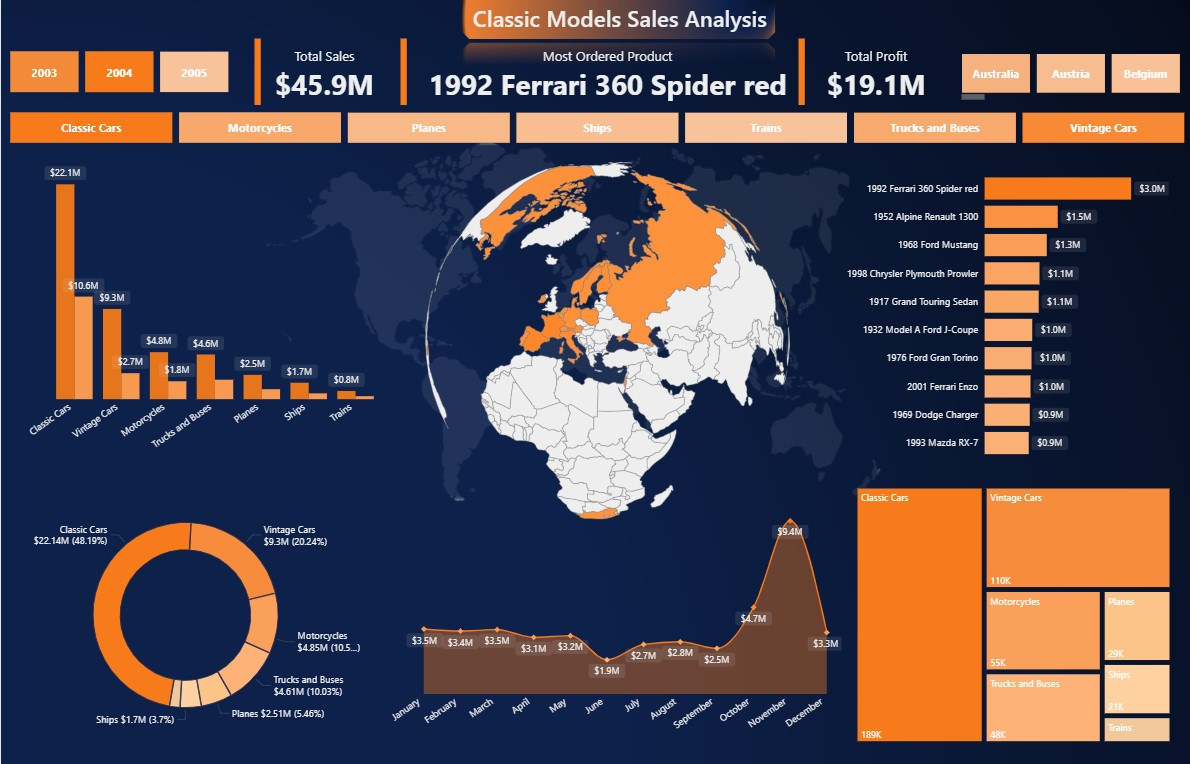

The page's visual inventory and layout, read from the dashboard file:
{"tool":"powerbi","page":{"name":"Page 1","canvas":[1700,1100],"ordinal":0},"visuals":[{"type":"cardVisual","fields":{"Data":["Order details.total_sales"]},"box":[337.1,51.4,210,105.7],"z":0},{"type":"cardVisual","fields":{"Data":["Order details.total_profit"]},"box":[1157.5,51.2,232.5,106.2],"z":1000},{"type":"cardVisual","fields":{"Data":["Order details.Most Ordered Product"]},"box":[577.1,51.4,602.9,105.7],"z":2000},{"type":"donutChart","fields":{"Category":["Productlines.productLine"],"Y":["Sum(Order details.Sales)"]},"box":[0,694.3,527.1,371.4],"z":3000},{"type":"barChart","fields":{"Y":["Sum(Order details.Sales)"],"Category":["Products.productName"]},"box":[1187.5,226.2,486.2,446.2],"z":4000},{"type":"treemap","fields":{"Group":["Productlines.productLine"],"Values":["Sum(Order details.quantityOrdered)"]},"box":[1218.6,694.3,455.7,371.4],"z":5000},{"type":"advancedSlicerVisual","title":"Product lines","fields":{"Values":["Productlines.productLine"]},"box":[8.8,157.5,1690,53.8],"z":6000},{"type":"stackedAreaChart","fields":{"Category":["Orders.Month Name"],"Y":["Sum(Order details.Sales)"]},"box":[547.1,727.1,658.6,338.6],"z":7000},{"type":"shapeMap","fields":{"Category":["Customers.country"]},"box":[376.2,200,981.2,576.2],"z":8000},{"type":"textbox","box":[658.8,0,451.2,60],"z":9000},{"type":"advancedSlicerVisual","fields":{"Values":["Orders.order_year"]},"box":[1367.1,104.3,322.9,44.3],"z":10000},{"type":"slicer","title":"Countries","fields":{"Values":["Customers.country"]},"box":[8.6,87.1,328.6,61.4],"z":11000},{"type":"clusteredColumnChart","fields":{"Y":["Order details.Total Sales","Order details.Total Profit"],"Category":["Productlines.productLine"]},"box":[31.4,225.7,535.7,440],"z":12000}]}

Visuals, with their boxes in screenshot pixels (x1, y1, x2, y2), scaled from the page's 1700x1100 canvas onto the 1190x764 screenshot:
cardVisual - Order details.total_sales: box(236, 36, 383, 109)
cardVisual - Order details.total_profit: box(810, 36, 973, 109)
cardVisual - Order details.Most Ordered Product: box(404, 36, 826, 109)
donutChart - Productlines.productLine x Sum(Order details.Sales): box(0, 482, 369, 740)
barChart - Sum(Order details.Sales) x Products.productName: box(831, 157, 1172, 467)
treemap - Productlines.productLine x Sum(Order details.quantityOrdered): box(853, 482, 1172, 740)
"Product lines" advancedSlicerVisual: box(6, 109, 1189, 147)
stackedAreaChart - Orders.Month Name x Sum(Order details.Sales): box(383, 505, 844, 740)
shapeMap - Customers.country: box(263, 139, 950, 539)
textbox: box(461, 0, 777, 42)
advancedSlicerVisual - Orders.order_year: box(957, 72, 1183, 103)
"Countries" slicer: box(6, 60, 236, 103)
clusteredColumnChart - Order details.Total Sales x Order details.Total Profit: box(22, 157, 397, 462)
